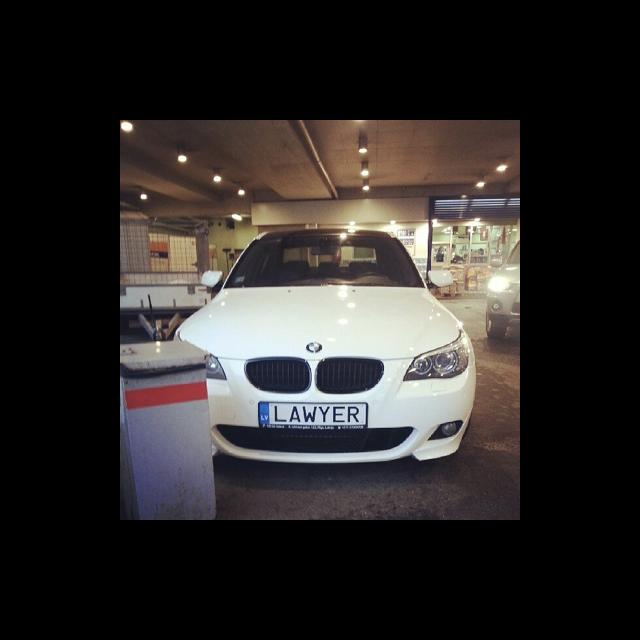Plate: (257, 399, 368, 430)
